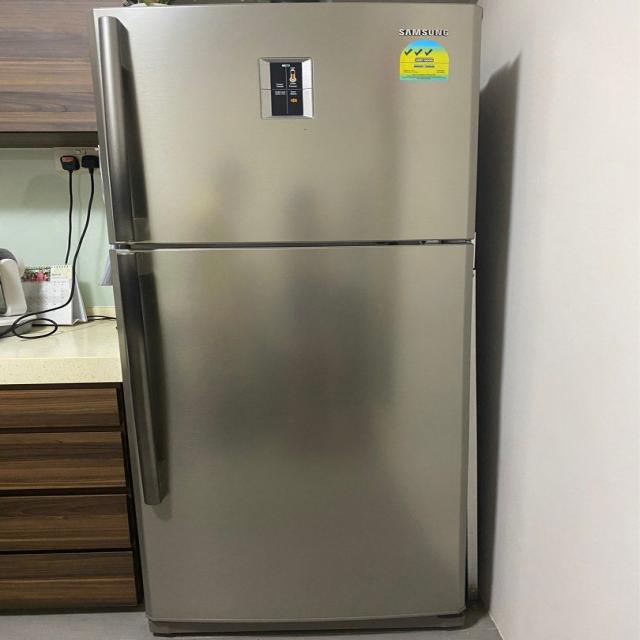refrigerator: (91, 3, 484, 630)
